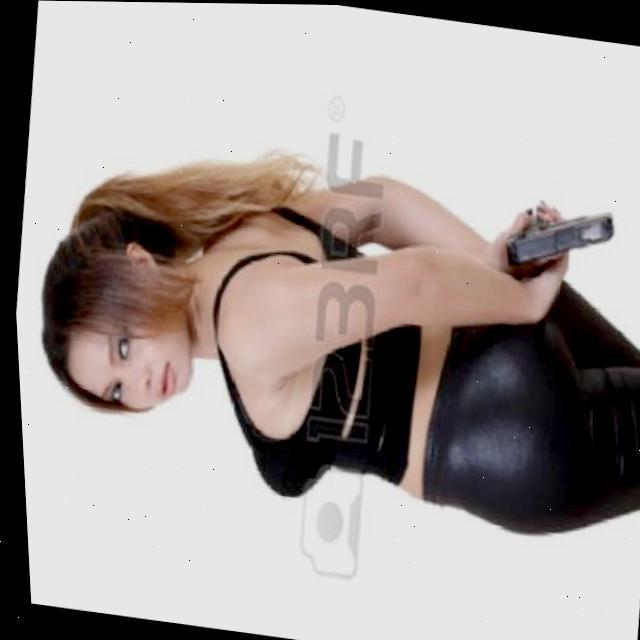gun: (495, 196, 616, 280)
